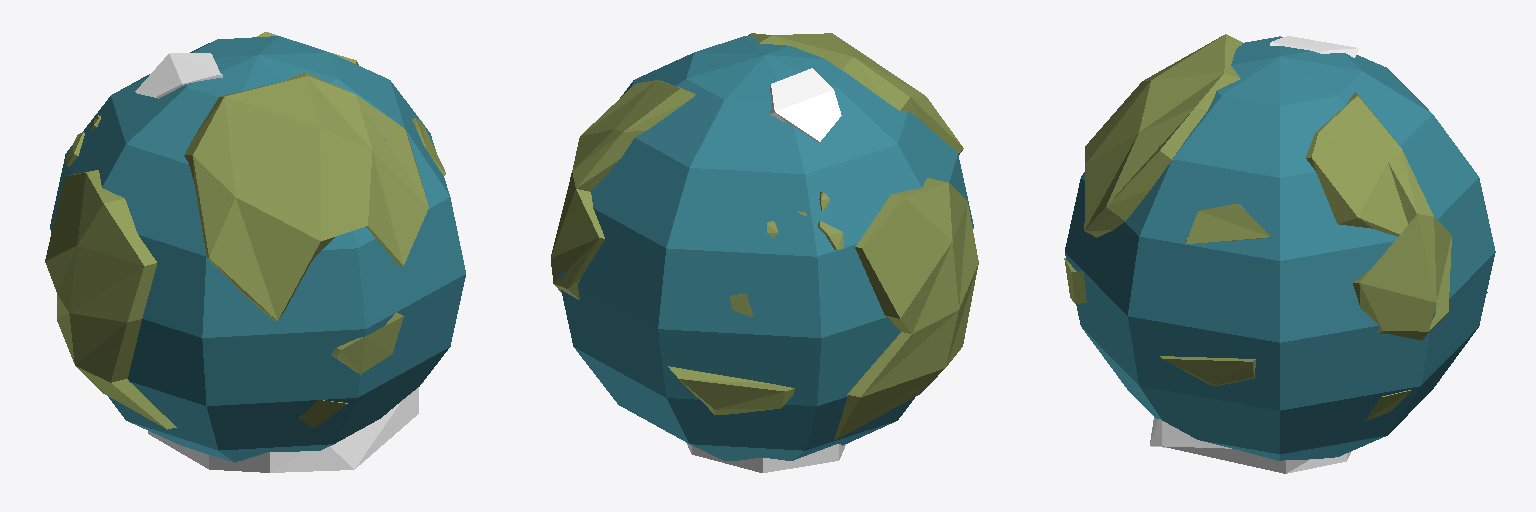
Rendered from World.obj.
The picture shows the model from 3 angles: view 1: azimuth 30°, elevation 25°; view 2: azimuth 150°, elevation 25°; view 3: azimuth 270°, elevation 25°; orthographic projection.
Visible parts, largest first — view 1: pSphere1, pCube12, pCube1, pCube14, pCube16, pCube13, pCube11; view 2: pSphere1, pCube1, pCube8, pCube12, pCube16, pCube6, pCube14; view 3: pSphere1, pCube8, pCube12, pCube14, pCube15, pCube10, pCube16, pCube13.
Part boxes in pixels (x1,y1,x2,y2): pSphere1: (50,36,465,462); pCube12: (184,72,428,320); pCube1: (45,170,176,429); pCube14: (148,387,418,472); pCube16: (135,53,222,98); pCube13: (331,312,403,374); pCube11: (299,400,347,427); pSphere1: (558,36,973,460); pCube1: (834,178,978,439); pCube8: (551,80,695,299); pCube12: (748,33,963,154); pCube16: (770,68,841,142); pCube6: (668,366,794,414); pCube14: (687,443,845,472); pSphere1: (1065,36,1495,460); pCube8: (1306,92,1451,340); pCube12: (1084,34,1242,237); pCube14: (1150,417,1351,473); pCube15: (1185,203,1271,243); pCube10: (1160,356,1255,385); pCube16: (1270,36,1359,57); pCube13: (1064,258,1086,303).
Bounding box in the file's own units: 19.58 × 19.88 × 19.37.